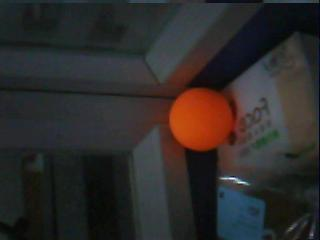oball: (169, 87, 232, 150)
